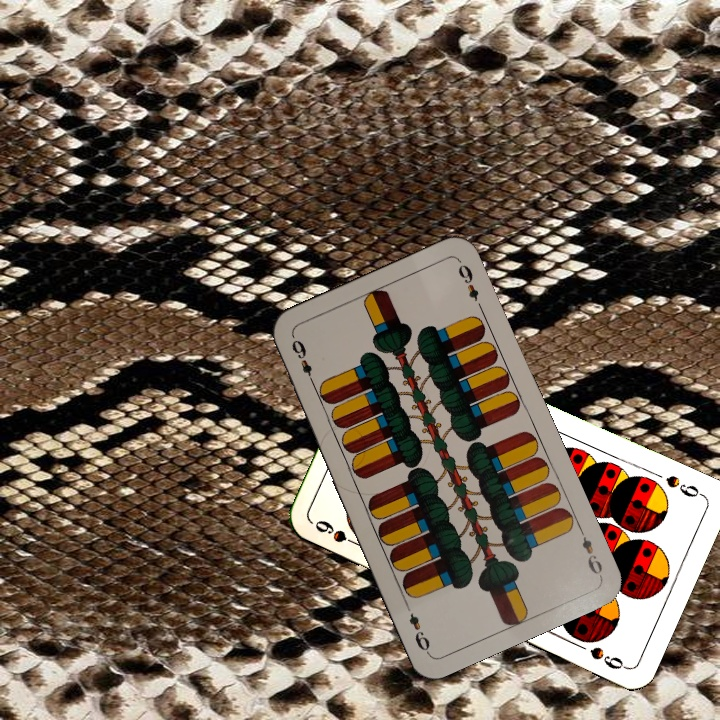E9: (287, 333, 318, 389), (574, 523, 605, 579)
S9: (311, 516, 366, 551), (662, 471, 707, 500)
